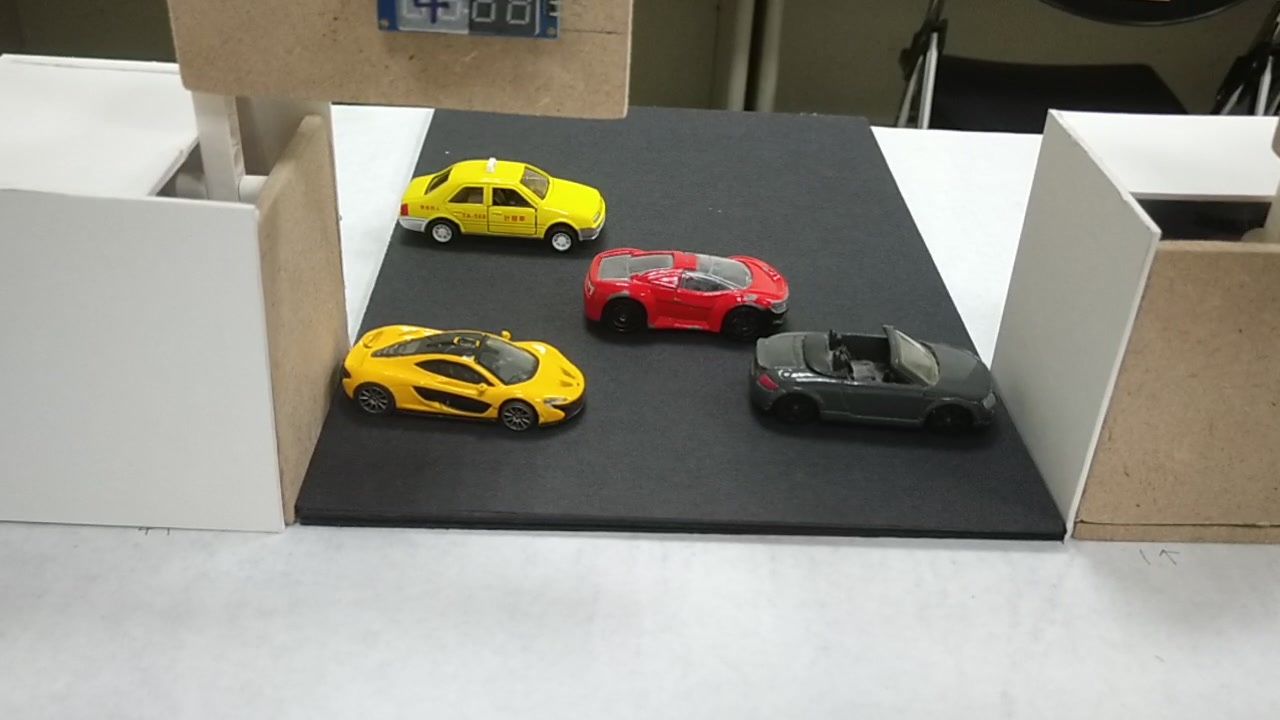car: (340, 326, 586, 436), (758, 336, 993, 434), (581, 247, 791, 341), (396, 156, 608, 249)
